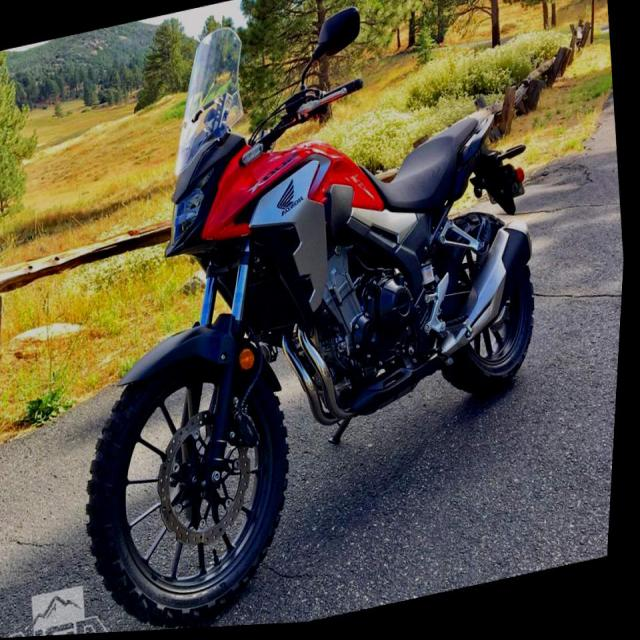CB500X: (32, 0, 584, 637)
